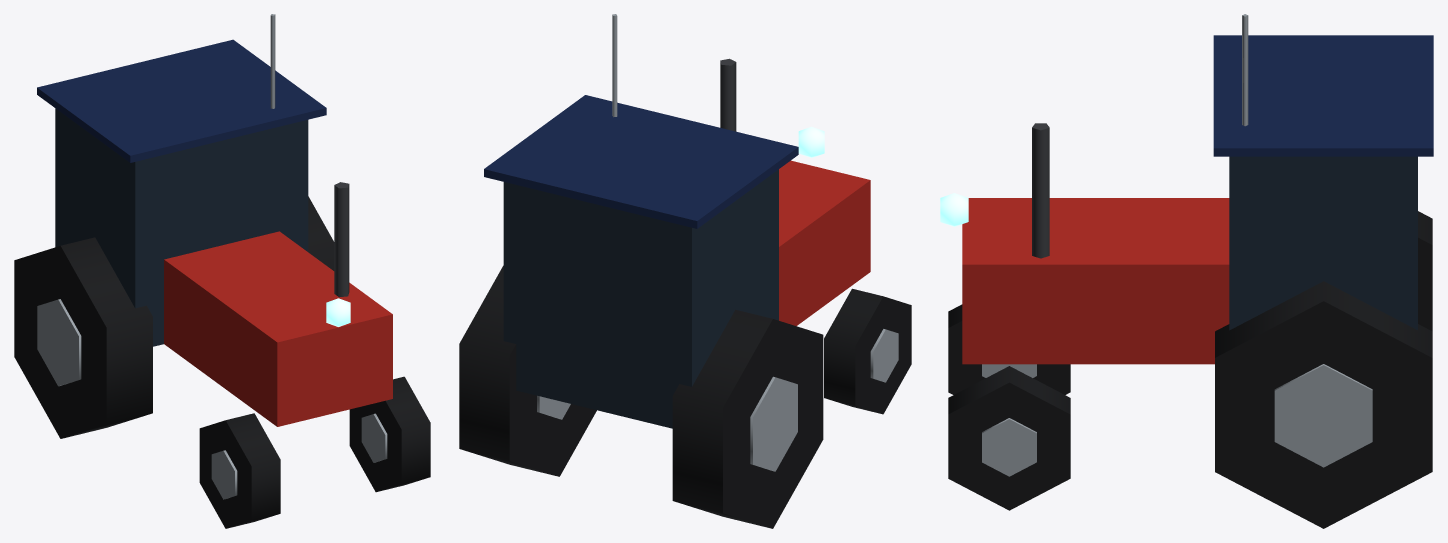
Rendered from veh_ground_tractor_a09_lod1.glb.
3 views of the same model, side by side, from view 1: azimuth 30°, elevation 25°; view 2: azimuth 150°, elevation 25°; view 3: azimuth 270°, elevation 25° (orthographic). The views are drawn at different scales.
Visible parts, largest first — view 1: body, wheel_0, front_wheel_0, front_wheel_1, wheel_1; view 2: body, wheel_0, wheel_1, front_wheel_0; view 3: body, wheel_1, front_wheel_1, front_wheel_0, wheel_0.
Boxes of the visible parts, x1,y1,x2,y2 form: body: (37,14,392,426); wheel_0: (14,237,152,438); front_wheel_0: (199,413,280,528); front_wheel_1: (349,376,430,492); wheel_1: (308,196,334,270); body: (484,14,870,428); wheel_0: (672,309,823,528); wheel_1: (459,265,596,476); front_wheel_0: (824,288,911,414); body: (940,14,1433,364); wheel_1: (1215,281,1432,528); front_wheel_1: (948,366,1070,510); front_wheel_0: (948,304,1070,394); wheel_0: (1418,211,1432,331).
Size of the model in its own units: 2.14 by 3.35 by 3.14.
